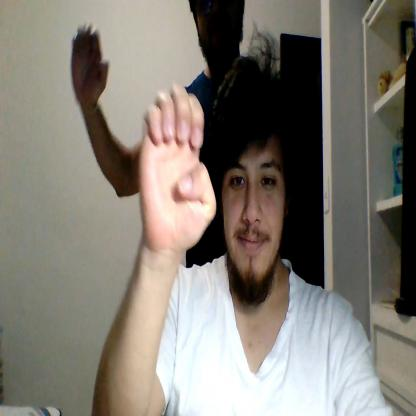E: (138, 85, 216, 249)
